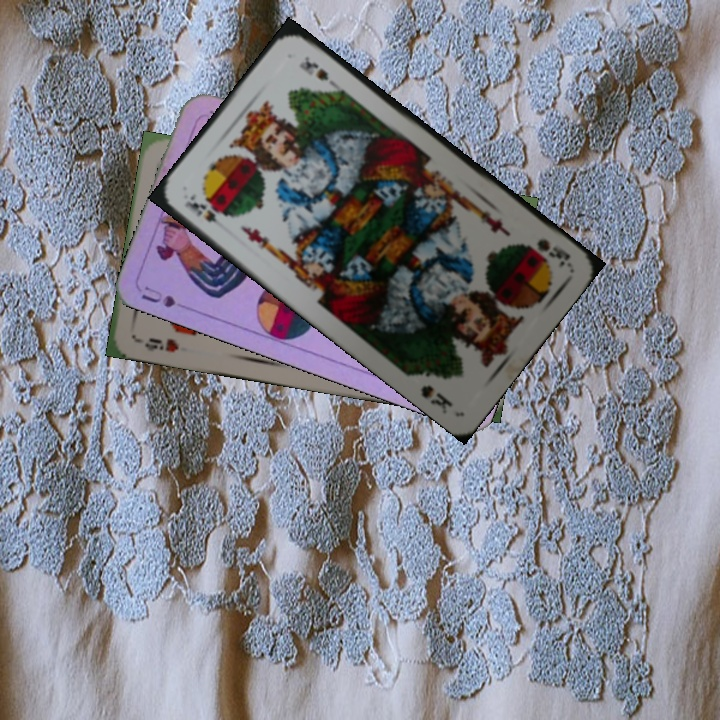H9: (133, 333, 181, 355)
SK: (180, 189, 230, 235), (532, 234, 573, 271)
SU: (137, 281, 196, 312)
